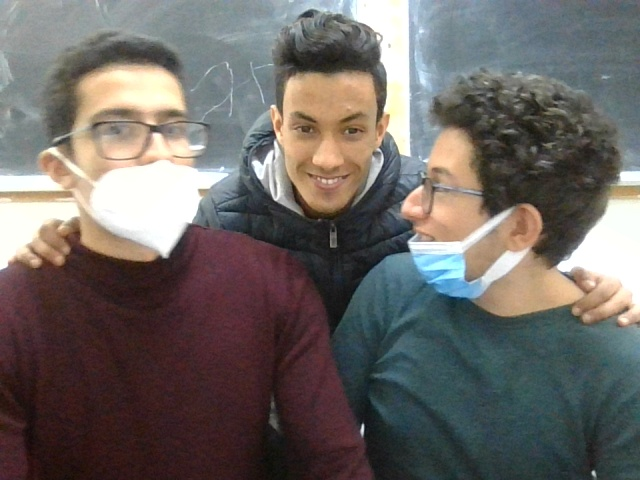mask_weared_incorrect: (399, 77, 596, 298)
without_mask: (264, 16, 390, 211)
